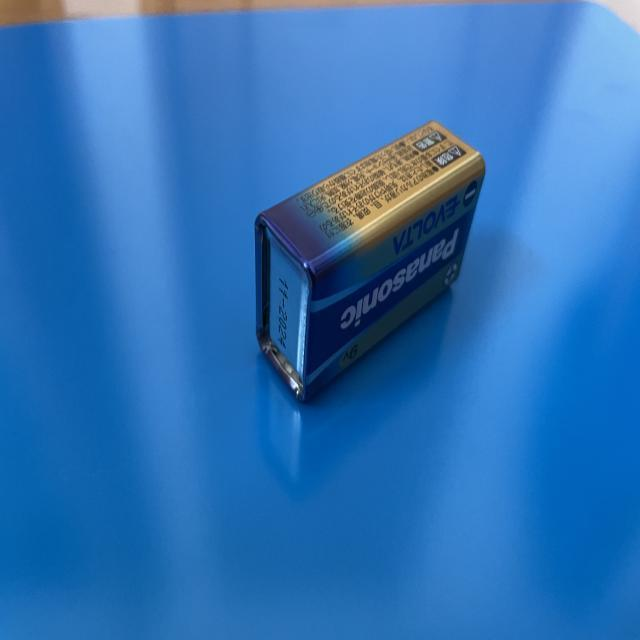9V: (255, 121, 487, 403)
